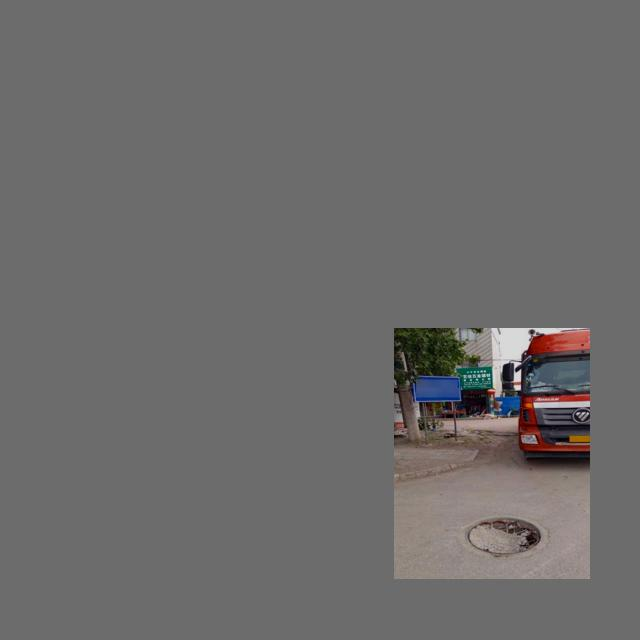broke: (457, 514, 547, 558)
